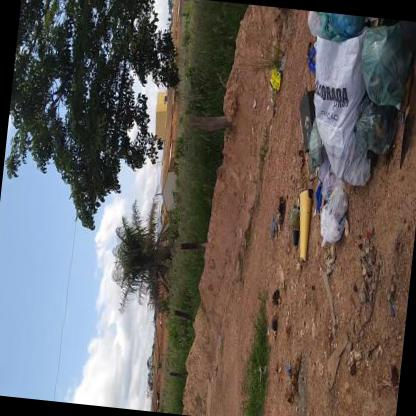lixo: (282, 9, 415, 269)
